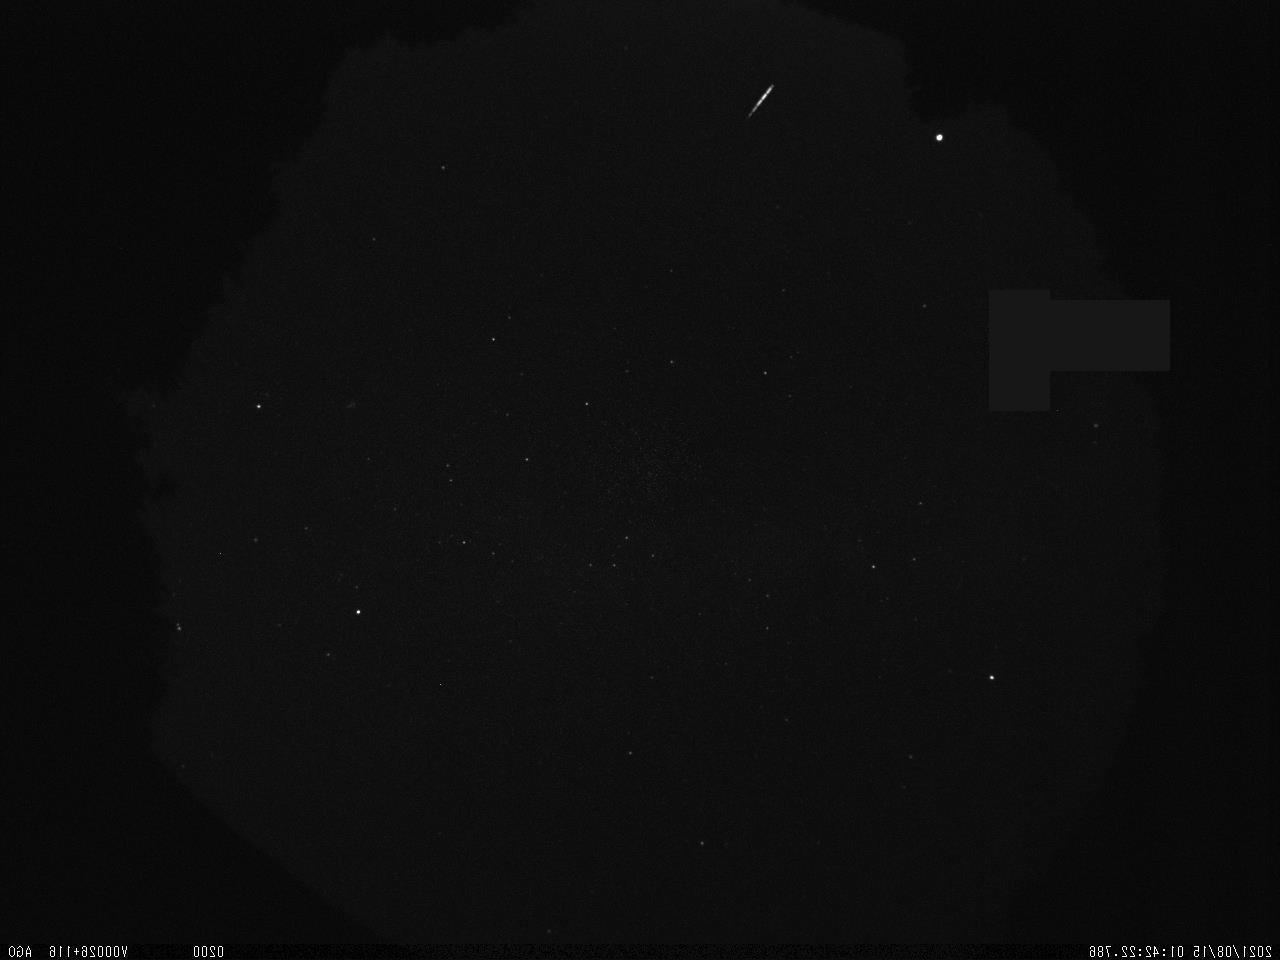meteor: (743, 79, 782, 123)
